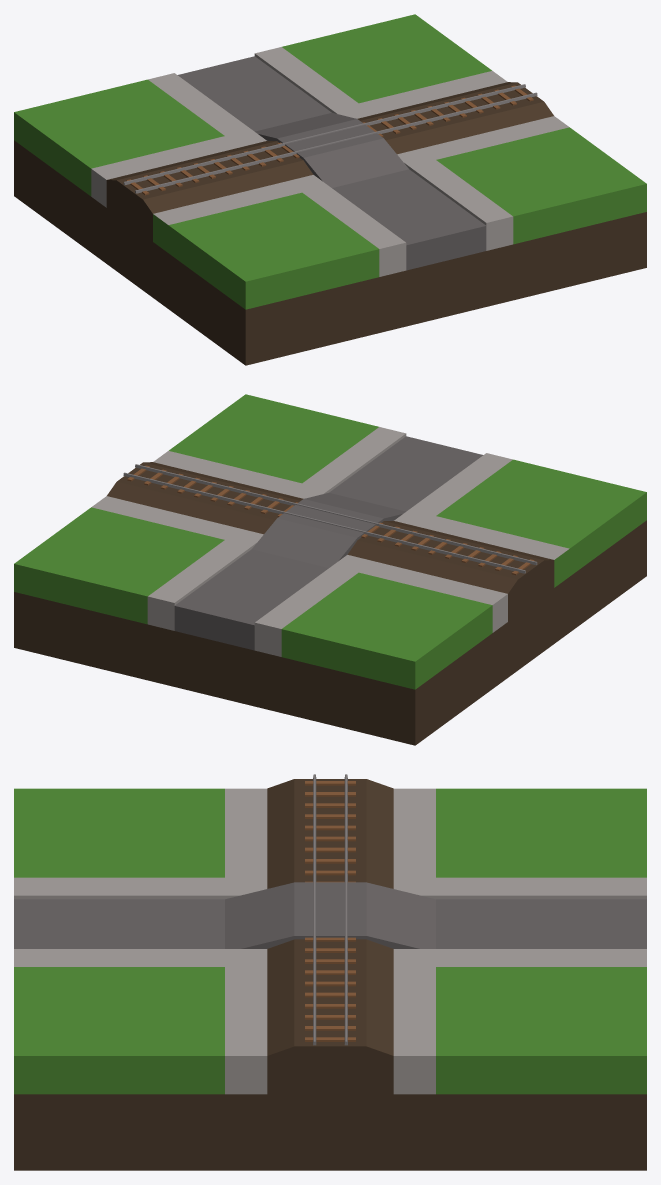
The model's file is tile-rail-road-crossing.fbx.
3 views of the same model, one above another, from view 1: azimuth 30°, elevation 25°; view 2: azimuth 150°, elevation 25°; view 3: azimuth 270°, elevation 25° (orthographic). The views are drawn at different scales.
Visible parts, largest first — view 1: tile-rail-road-crossing; view 2: tile-rail-road-crossing; view 3: tile-rail-road-crossing.
Boxes of the visible parts, left/top/right/bottom form: tile-rail-road-crossing: left=14, top=14, right=646, bottom=365; tile-rail-road-crossing: left=14, top=394, right=646, bottom=745; tile-rail-road-crossing: left=14, top=774, right=646, bottom=1170.
Size of the model in its own units: 30 by 6.75 by 30.
